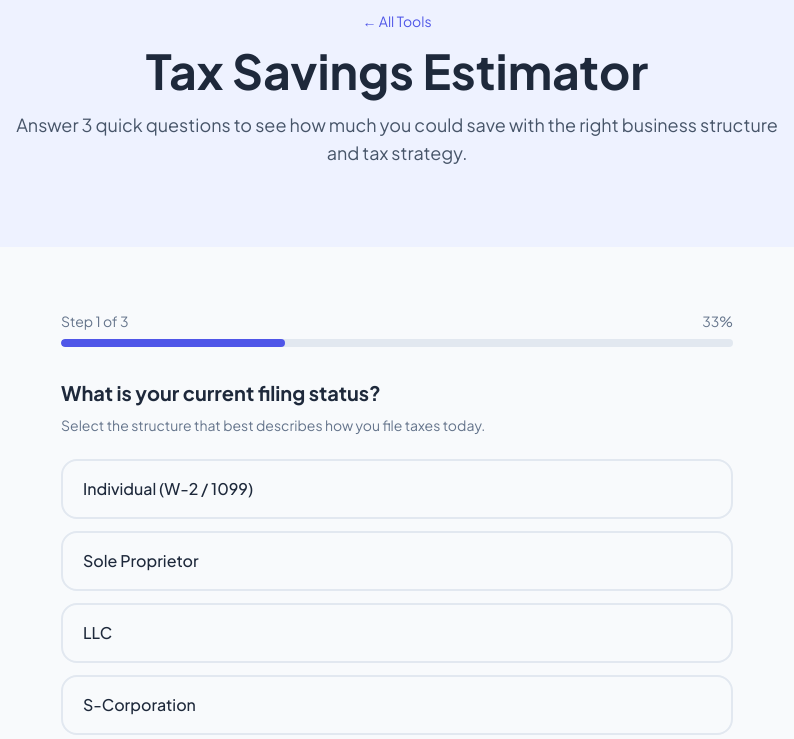
Scenario: TaxSavingsEstimator – step navigation › shows estimated savings dollar range at the lead gate
What coordinates should you click on to do the following:
click the button "LLC"
I would click on:
 (98, 632)
Its box is 61,603 -> 733,663.
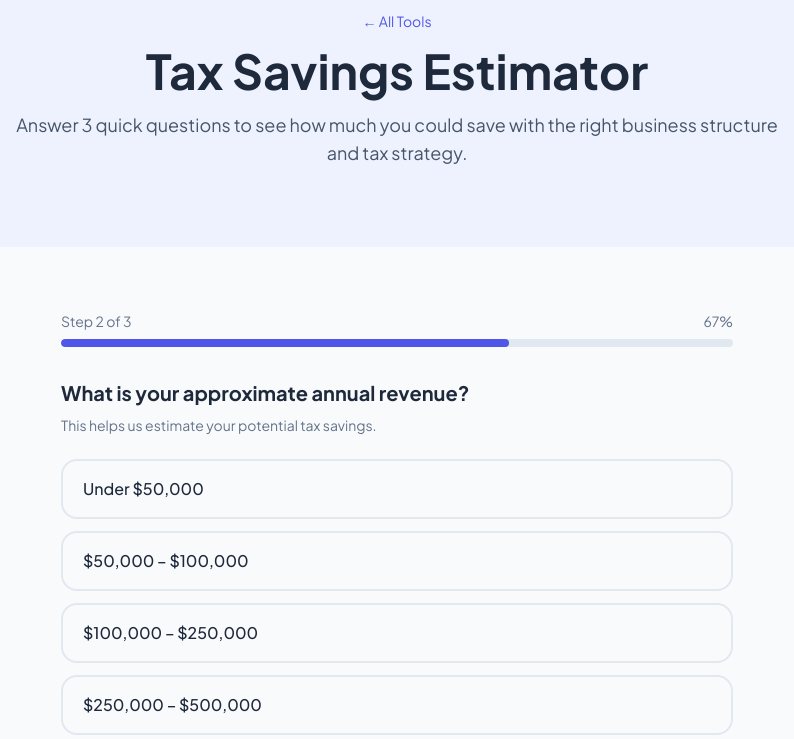
What coordinates should you click on to do the following:
click the button "Under $50,000"
I would click on:
 (143, 488)
Its box is 61,459 -> 733,519.
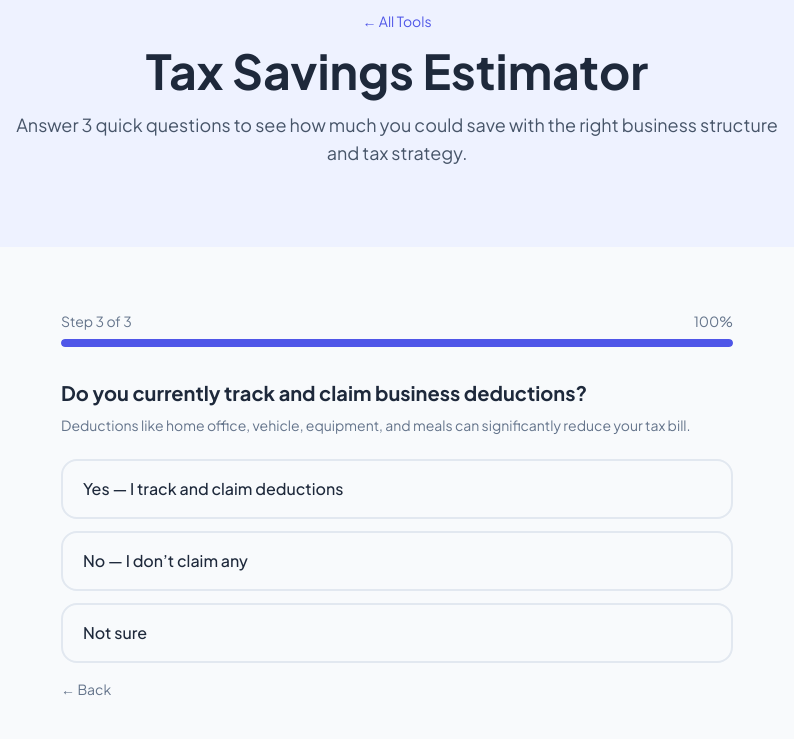
What coordinates should you click on to do the following:
click the button "Yes — I track and claim deductions"
I would click on:
 (213, 488)
Its box is 61,459 -> 733,519.
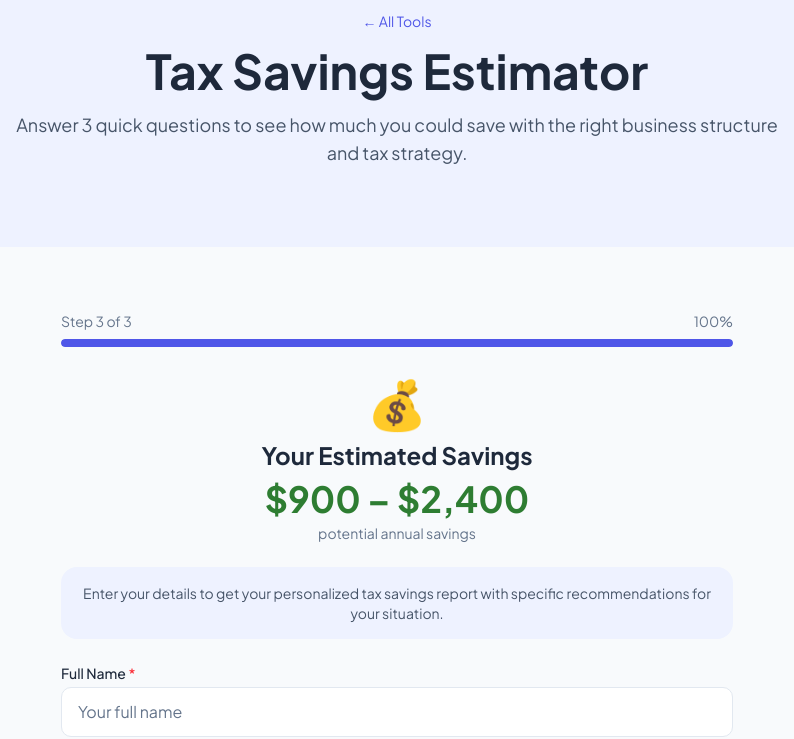
Expected: the text "$900 – $2,400" is shown, 265,476 -> 529,521
